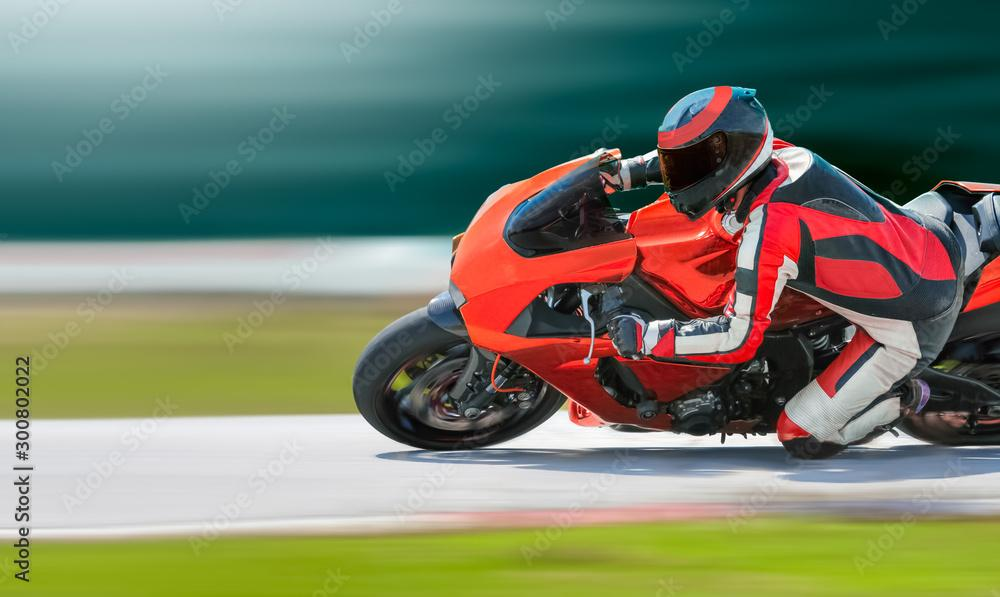helmet: (656, 85, 774, 223)
